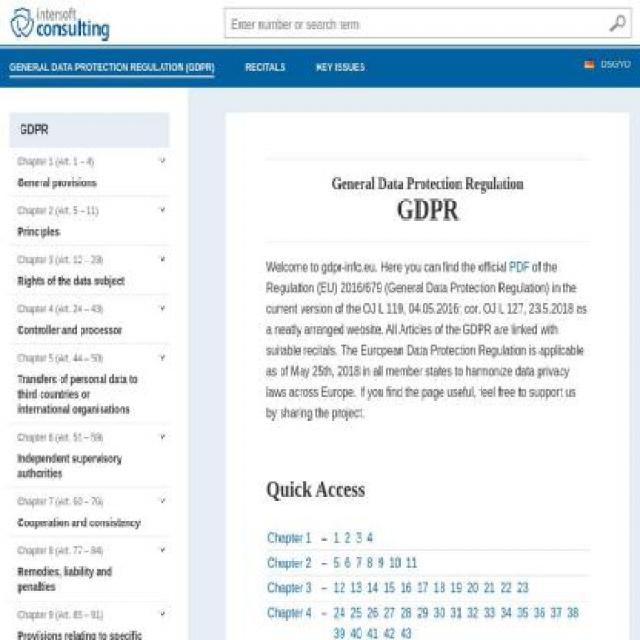button: (9, 344, 171, 422), (9, 424, 171, 487), (9, 537, 171, 600), (9, 294, 171, 344), (9, 147, 171, 196), (9, 197, 171, 246), (9, 487, 171, 536), (9, 246, 171, 294), (9, 601, 171, 639), (9, 113, 171, 147), (9, 59, 216, 78), (267, 527, 311, 548), (267, 552, 311, 573), (267, 577, 311, 598), (267, 602, 311, 623), (316, 59, 364, 76), (245, 59, 286, 76), (155, 150, 170, 170), (155, 199, 170, 219), (155, 248, 170, 268), (155, 298, 170, 318), (155, 347, 170, 367), (155, 426, 170, 446), (155, 490, 170, 510), (155, 539, 170, 559), (155, 603, 170, 623), (388, 552, 401, 573), (405, 552, 418, 573), (333, 577, 345, 598), (350, 577, 362, 598), (367, 577, 379, 598), (383, 577, 395, 598), (400, 577, 412, 598), (417, 577, 429, 598), (433, 577, 445, 598), (450, 577, 462, 598), (467, 577, 479, 598), (483, 577, 495, 598), (500, 577, 512, 598), (517, 577, 529, 598), (333, 602, 345, 623), (350, 602, 362, 623), (367, 602, 379, 623), (383, 602, 395, 623), (400, 602, 412, 623), (417, 602, 429, 623), (433, 602, 445, 623), (450, 602, 462, 623), (467, 602, 479, 623), (483, 602, 495, 623), (500, 602, 512, 623), (517, 602, 529, 623), (534, 602, 546, 623), (550, 602, 562, 623), (567, 602, 579, 623), (333, 622, 345, 640), (350, 622, 362, 640), (367, 622, 379, 640), (384, 622, 396, 640), (400, 622, 412, 640), (333, 527, 339, 548), (344, 527, 350, 548), (356, 527, 362, 548), (367, 527, 373, 548), (333, 552, 339, 573), (344, 552, 350, 573), (356, 552, 362, 573), (367, 552, 373, 573), (378, 552, 384, 573)
field: (224, 7, 631, 38)
